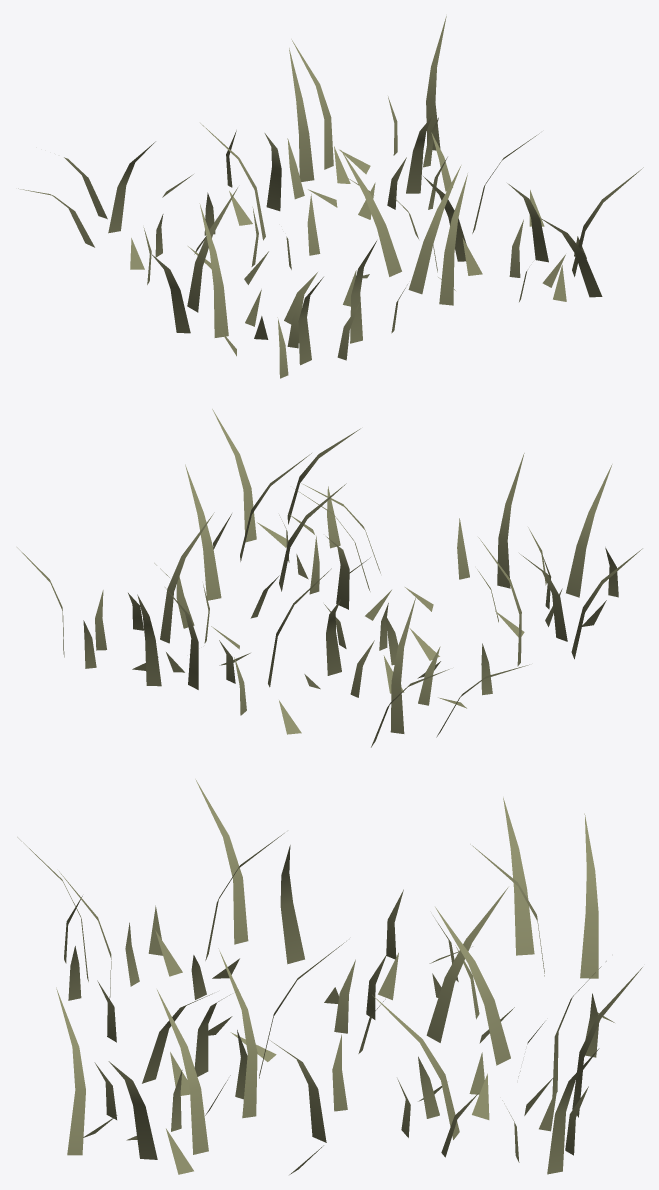
Rendered from Grass_2.fbx.
3 renders of one model, top to bottom at view 1: azimuth 30°, elevation 25°; view 2: azimuth 150°, elevation 25°; view 3: azimuth 270°, elevation 25°, orthographic. The views are drawn at different scales.
Parts seen in each view (by area): view 1: Grass_2; view 2: Grass_2; view 3: Grass_2.
Boxes of the visible parts, box(x1,y1,x2,y2) form: Grass_2: box(18, 16, 643, 378); Grass_2: box(17, 409, 642, 747); Grass_2: box(17, 779, 642, 1174).
Bounding box in the file's own units: 1.87 × 1.71 × 0.4517.
